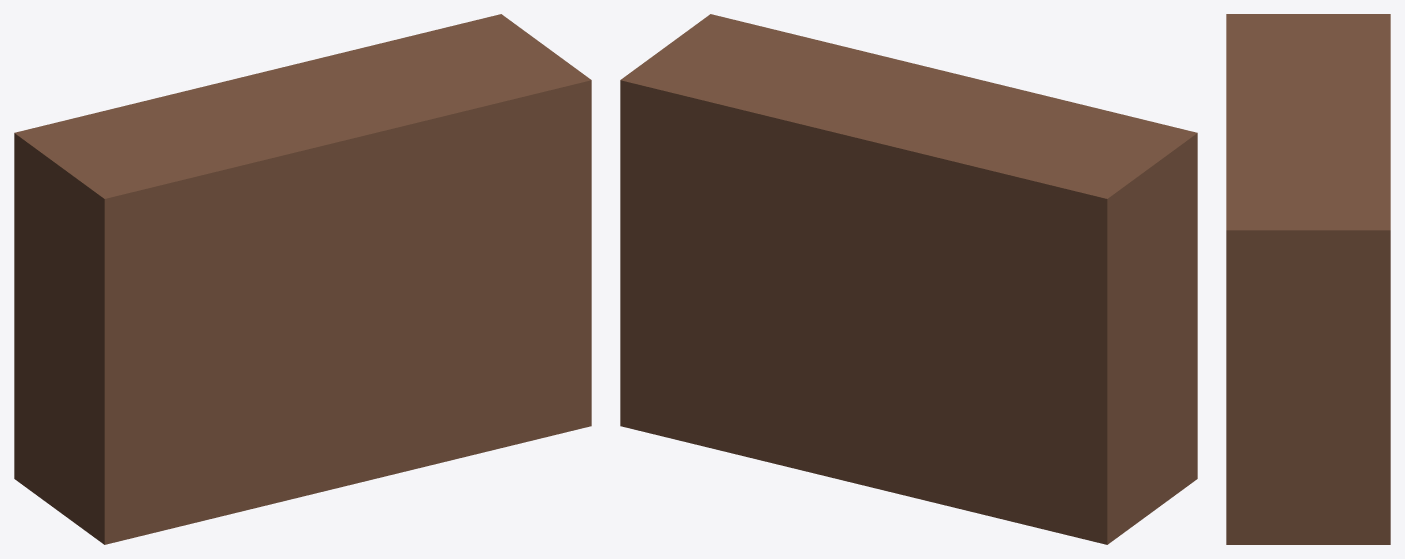
Rendered from Back Wall_Center.fbx.
3 views of the same model, side by side, from view 1: azimuth 30°, elevation 25°; view 2: azimuth 150°, elevation 25°; view 3: azimuth 270°, elevation 25° (orthographic). The views are drawn at different scales.
Parts seen in each view (by area): view 1: Back Wall_center; view 2: Back Wall_center; view 3: Back Wall_center.
Part boxes in pixels (left/top/right/bottom): Back Wall_center: left=14, top=14, right=591, bottom=544; Back Wall_center: left=620, top=14, right=1197, bottom=544; Back Wall_center: left=1226, top=14, right=1390, bottom=544.
Bounding box in the file's own units: 14 × 9.5 × 4.5.
